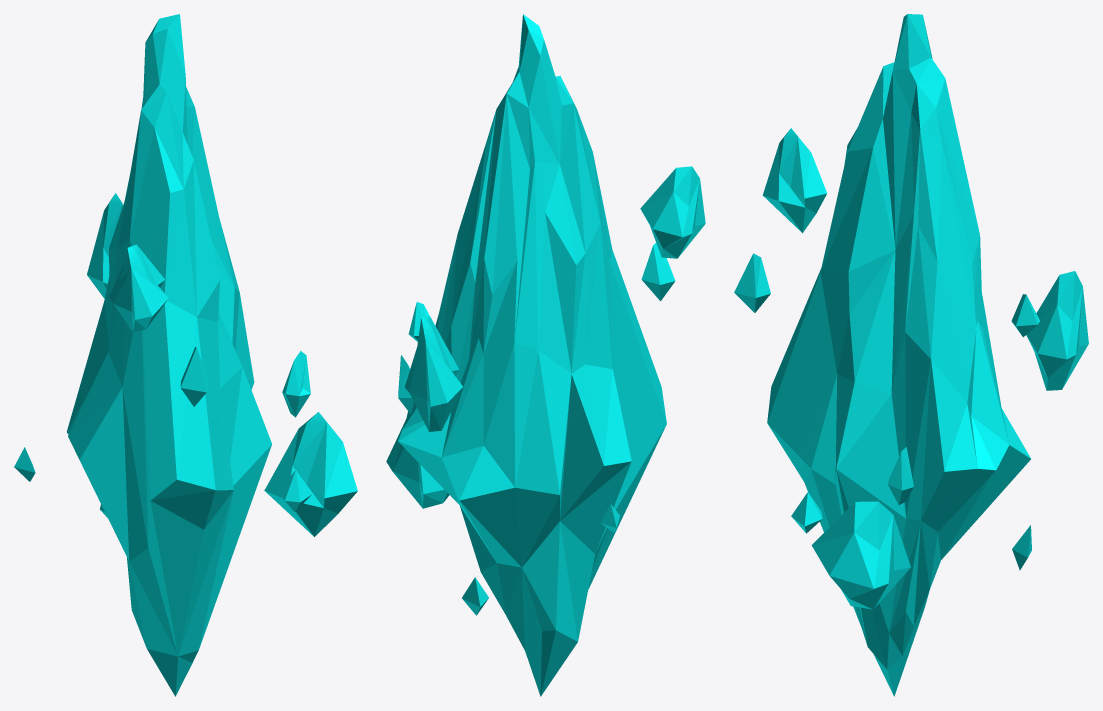
The picture shows the model from 3 angles, left to right: view 1: azimuth 30°, elevation 25°; view 2: azimuth 150°, elevation 25°; view 3: azimuth 270°, elevation 25°; orthographic projection.
Visible parts, largest first — view 1: SM_Env_Floating_Crystal_01, SM_Env_Floating_Crystal_02; view 2: SM_Env_Floating_Crystal_01, SM_Env_Floating_Crystal_02; view 3: SM_Env_Floating_Crystal_01, SM_Env_Floating_Crystal_02.
Part boxes in pixels (bbox=[...]): SM_Env_Floating_Crystal_01: bbox=[67, 14, 271, 696]; SM_Env_Floating_Crystal_02: bbox=[14, 193, 357, 536]; SM_Env_Floating_Crystal_01: bbox=[398, 14, 666, 696]; SM_Env_Floating_Crystal_02: bbox=[386, 166, 705, 615]; SM_Env_Floating_Crystal_01: bbox=[767, 14, 1030, 696]; SM_Env_Floating_Crystal_02: bbox=[734, 128, 1088, 609].
Bounding box in the file's own units: 4.7 × 10.81 × 5.05.
